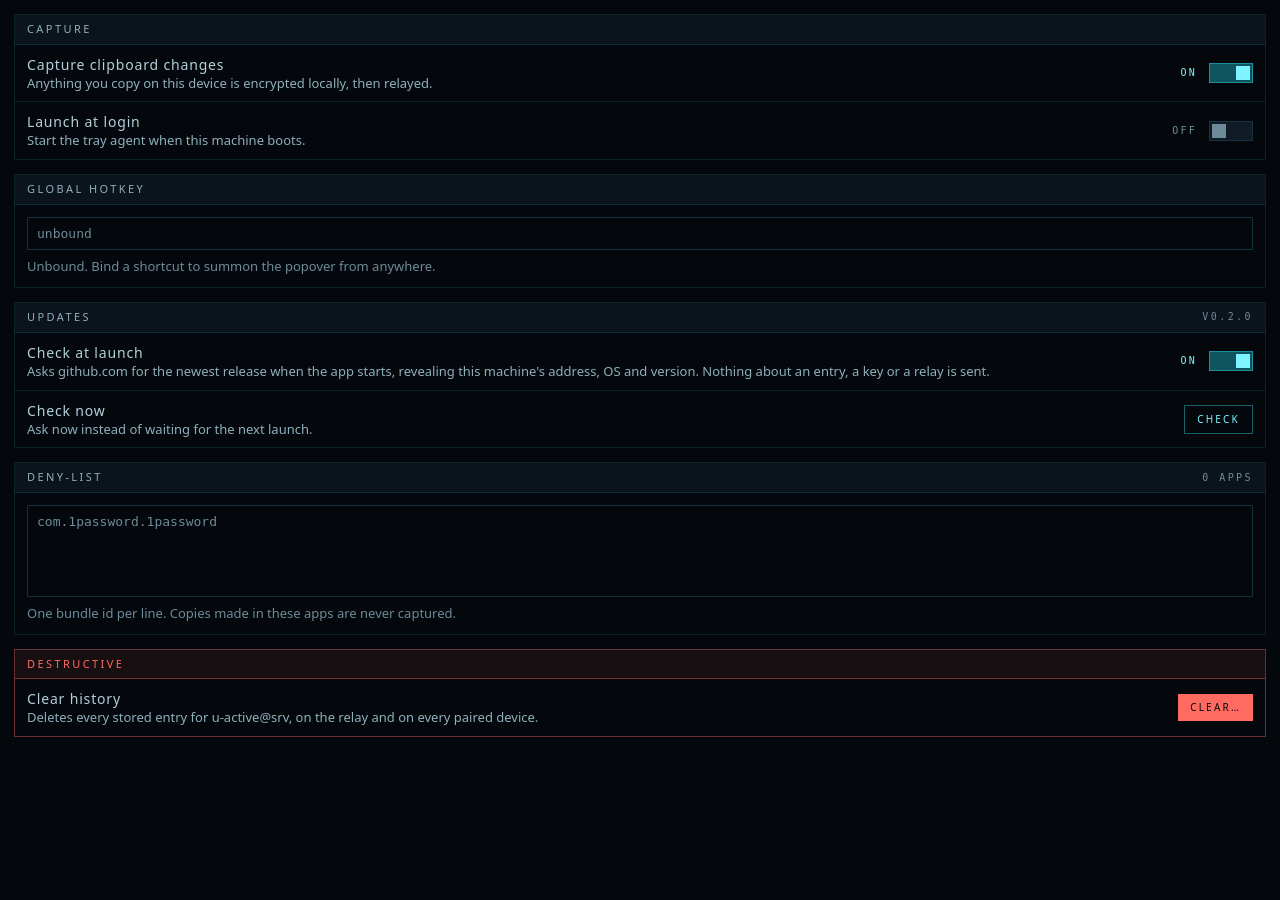
it: SettingsSection updates › a manual check that finds nothing says so and offers no install
Click the button with test id "check-for-update".
click(1219, 419)  # box [1184, 404, 1253, 434]
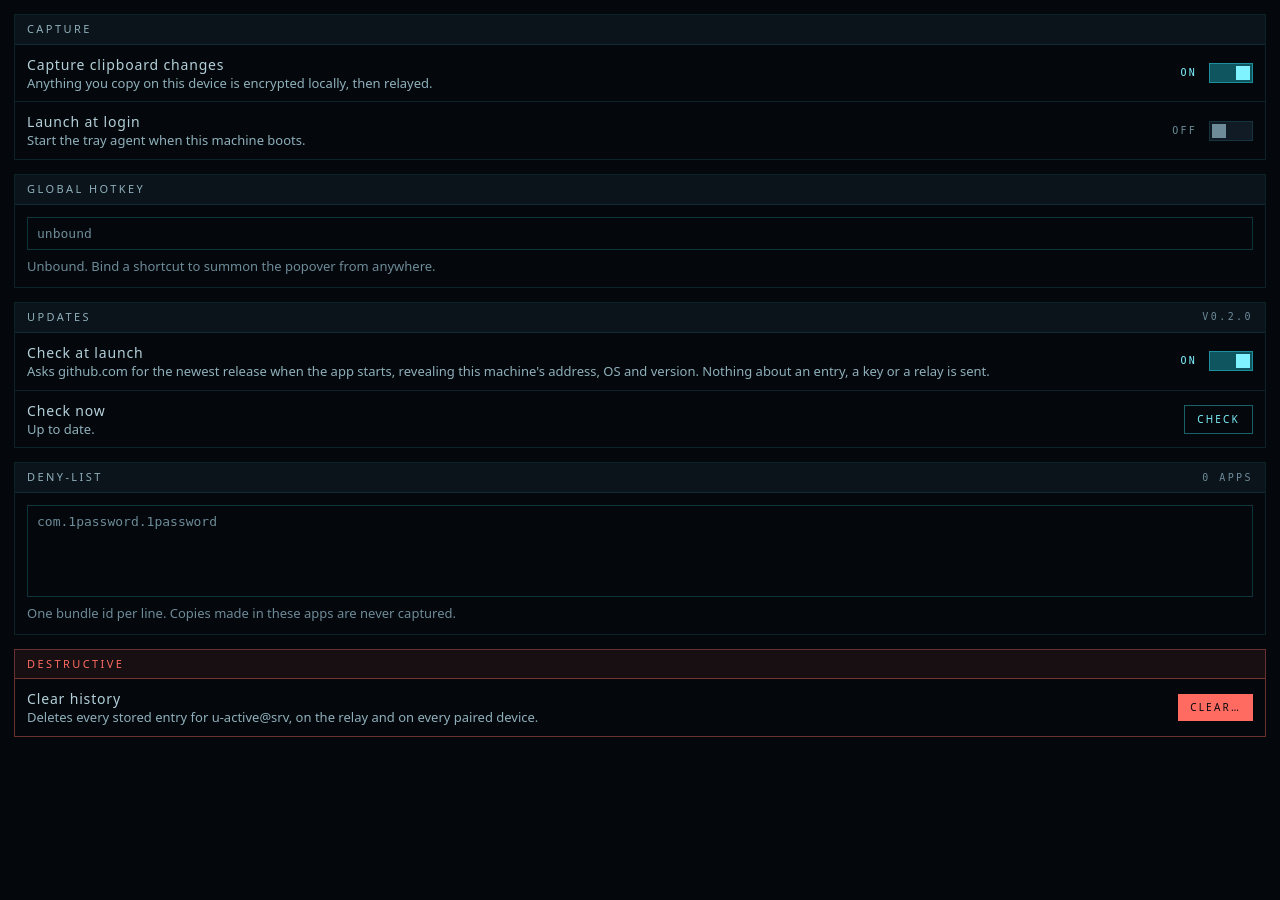
Expected: the text "Up to date." is shown, [27, 421, 106, 438]
